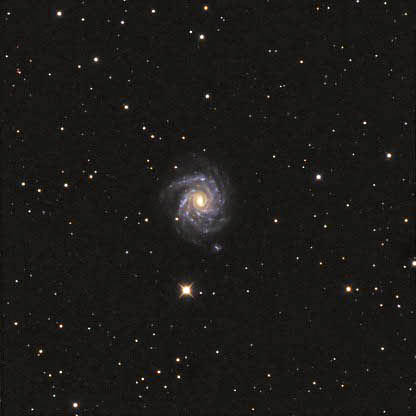NGC 1232: (154, 152, 242, 261)
